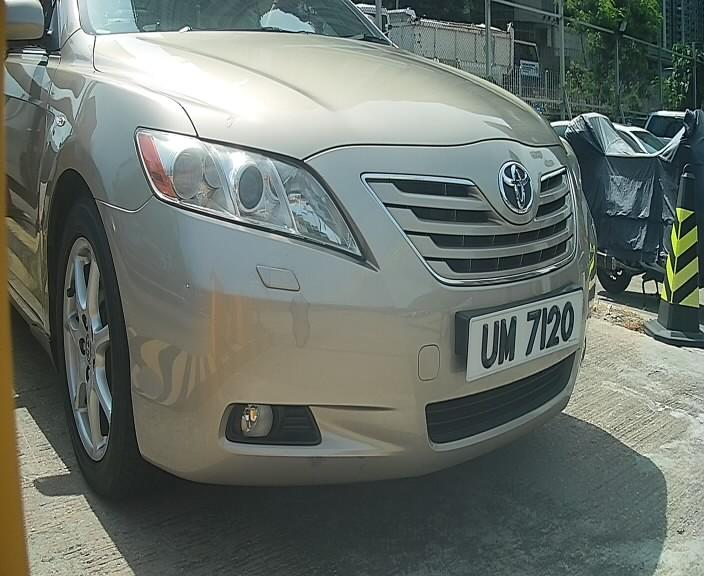License Plate: (450, 276, 588, 399)
